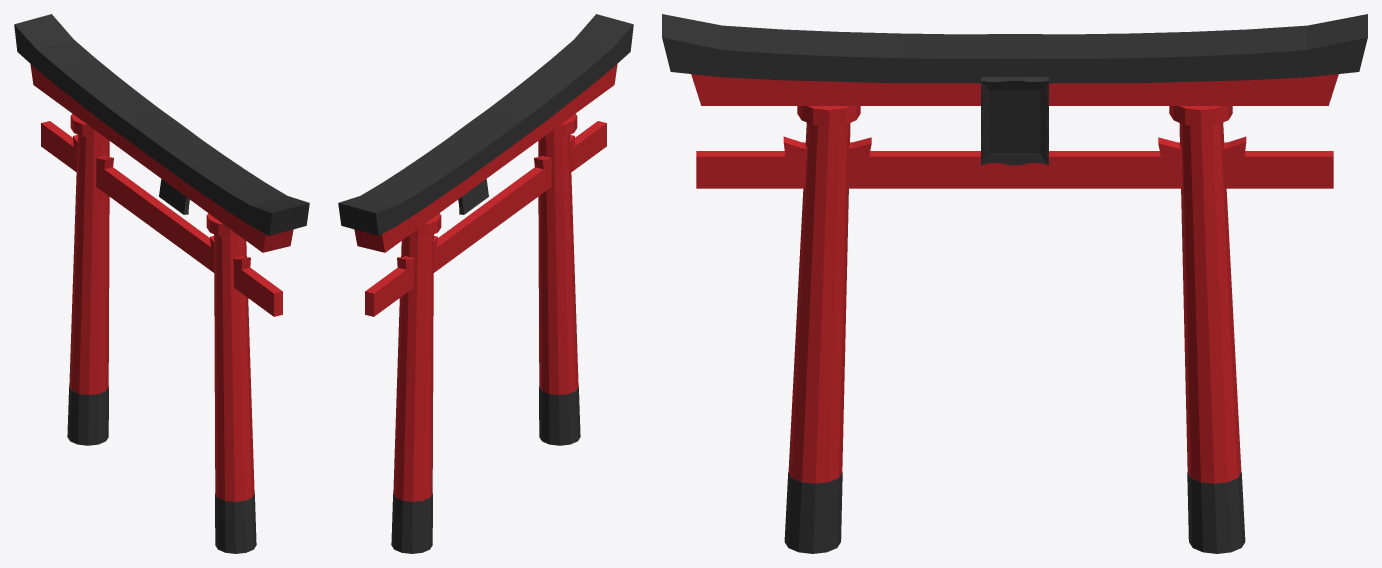
The model's file is shrine.glb.
The picture shows the model from 3 angles, left to right: view 1: azimuth 30°, elevation 25°; view 2: azimuth 150°, elevation 25°; view 3: azimuth 270°, elevation 25°; orthographic projection. The views are drawn at different scales.
Parts seen in each view (by area): view 1: Cube, Cube.001; view 2: Cube, Cube.001; view 3: Cube, Cube.001.
Part boxes in pixels (<box>): Cube: <box>14,14,309,553</box>; Cube.001: <box>159,179,189,214</box>; Cube: <box>338,14,633,553</box>; Cube.001: <box>458,179,488,214</box>; Cube: <box>662,14,1367,553</box>; Cube.001: <box>981,77,1048,165</box>.
Size of the model in its own units: 0.4886 by 4.08 by 5.05.
